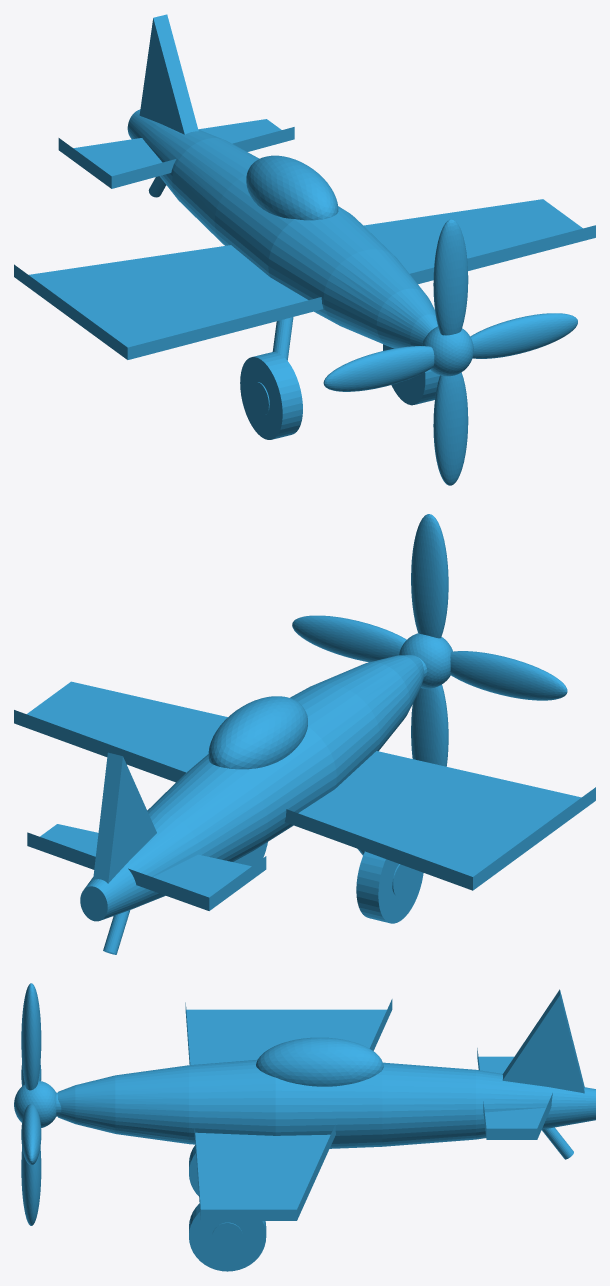
File: toy-airplane.glb
3 renders of one model, top to bottom at view 1: azimuth 30°, elevation 25°; view 2: azimuth 150°, elevation 25°; view 3: azimuth 270°, elevation 25°, orthographic. The views are drawn at different scales.
Parts seen in each view (by area): view 1: Main wing, Fuselage, Tailplane, Cockpit canopy, Vertical tail fin, Wheel -1, Propeller blade 2, Propeller blade 3, Propeller blade 4, Propeller blade 1, Propeller hub, Wheel 1 (+1 smaller); view 2: Main wing, Fuselage, Tailplane, Cockpit canopy, Vertical tail fin, Propeller blade 2, Propeller blade 3, Propeller blade 1, Wheel -1, Propeller blade 4, Propeller hub, Tail skid; view 3: Fuselage, Main wing, Cockpit canopy, Vertical tail fin, Wheel 1, Tailplane, Propeller blade 2, Propeller hub, Propeller blade 4, Propeller blade 1, Wheel hub 1, Tail skid.
Boxes of the visible parts, x1,y1,x2,y2 form: Main wing: [14, 199, 595, 359]; Fuselage: [127, 109, 437, 348]; Tailplane: [58, 119, 294, 188]; Cockpit canopy: [246, 155, 338, 220]; Vertical tail fin: [139, 14, 198, 134]; Wheel -1: [240, 352, 302, 439]; Propeller blade 2: [433, 219, 468, 335]; Propeller blade 3: [323, 346, 434, 391]; Propeller blade 4: [433, 372, 468, 485]; Propeller blade 1: [470, 313, 577, 358]; Propeller hub: [422, 326, 473, 376]; Wheel 1: [383, 344, 439, 405]; Main wing: [14, 681, 595, 890]; Fuselage: [80, 655, 424, 921]; Tailplane: [27, 824, 266, 910]; Cockpit canopy: [208, 696, 307, 769]; Vertical tail fin: [93, 752, 156, 883]; Propeller blade 2: [411, 514, 448, 638]; Propeller blade 3: [450, 651, 567, 700]; Propeller blade 1: [292, 615, 406, 662]; Wheel -1: [356, 851, 423, 923]; Propeller blade 4: [411, 684, 448, 766]; Propeller hub: [399, 633, 452, 688]; Tail skid: [103, 910, 130, 954]; Fuselage: [58, 1059, 595, 1148]; Main wing: [185, 999, 392, 1220]; Cockpit canopy: [256, 1037, 383, 1086]; Vertical tail fin: [502, 989, 584, 1093]; Wheel 1: [189, 1203, 266, 1271]; Tailplane: [477, 1048, 552, 1139]; Propeller blade 2: [21, 983, 41, 1090]; Propeller hub: [14, 1081, 56, 1127]; Propeller blade 4: [21, 1147, 41, 1225]; Propeller blade 1: [21, 1104, 41, 1165]; Wheel hub 1: [212, 1222, 242, 1250]; Tail skid: [542, 1127, 573, 1159].
Size of the model in its own units: 3.75 by 2.08 by 4.36.
